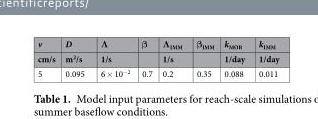table: (36, 37, 278, 79)
table column: (91, 37, 135, 79), (218, 37, 251, 79), (59, 37, 91, 79), (156, 37, 188, 79), (188, 37, 218, 79), (251, 37, 278, 79), (36, 37, 59, 79), (135, 37, 156, 79)
table column header: (36, 37, 278, 51)
table row: (36, 37, 278, 51), (36, 51, 278, 65), (36, 65, 278, 79)
